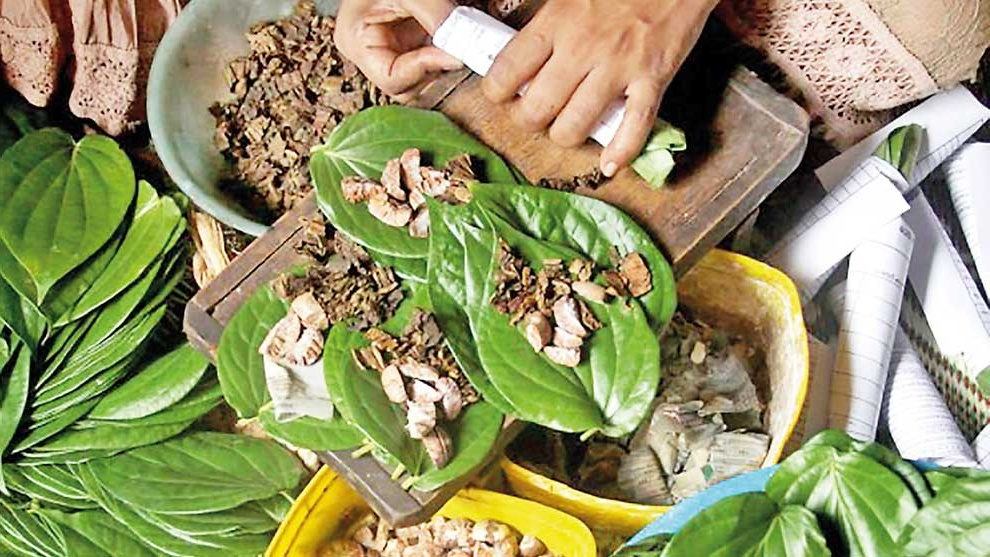bulathwita: (428, 175, 679, 440), (330, 262, 503, 487), (310, 103, 512, 258), (4, 127, 137, 304)
